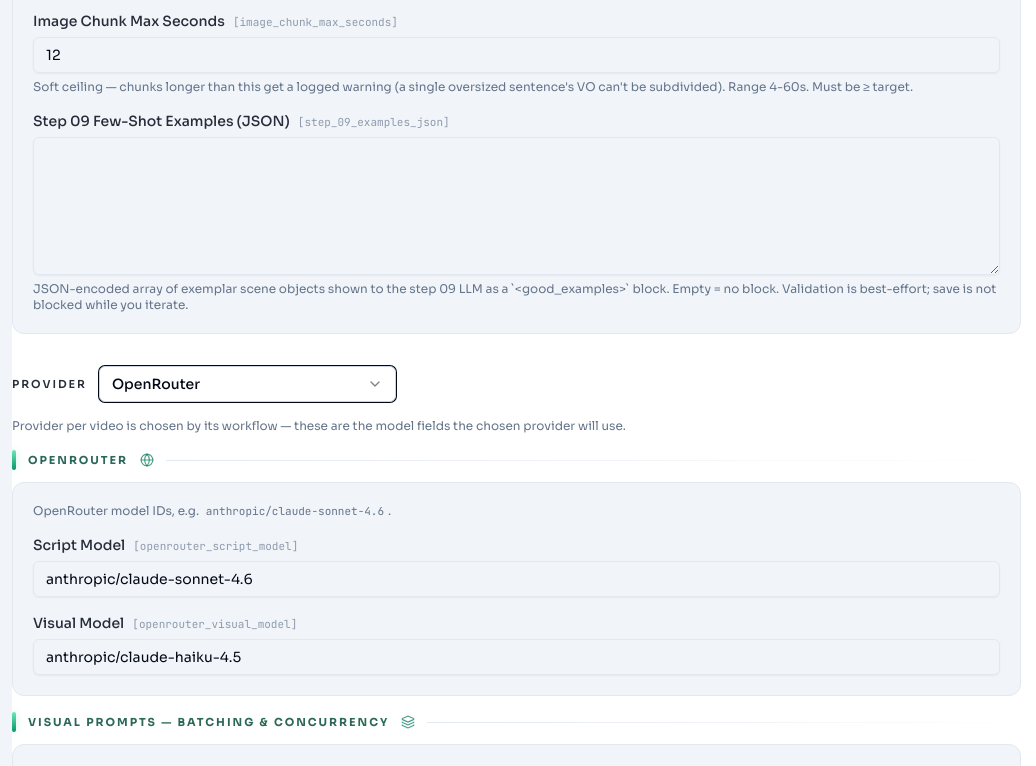
Scenario: SettingsForm field distribution › Script tab: switching the Provider view to Claude CLI reveals the two Claude CLI model TextFields
The width and height of the screenshot is (1036, 766).
(page scrolled)
Press Enter in the dropdown named "provider", box [99,366,396,402]
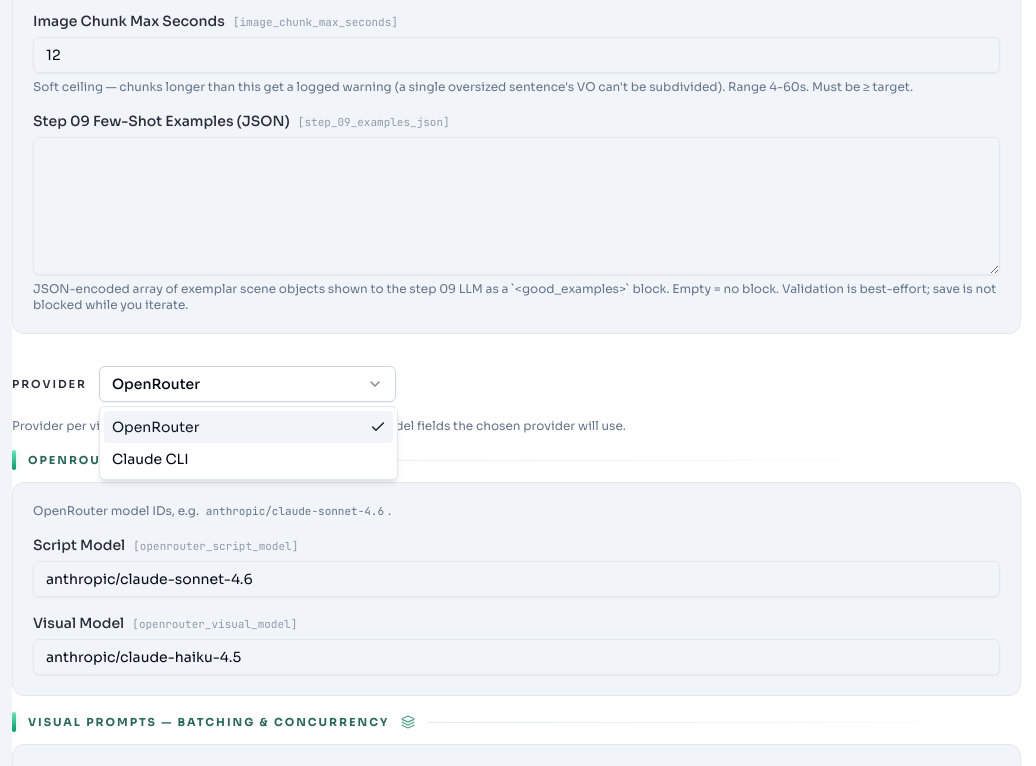
Click the option "Claude CLI".
click(150, 459)  # box [112,450,188,468]
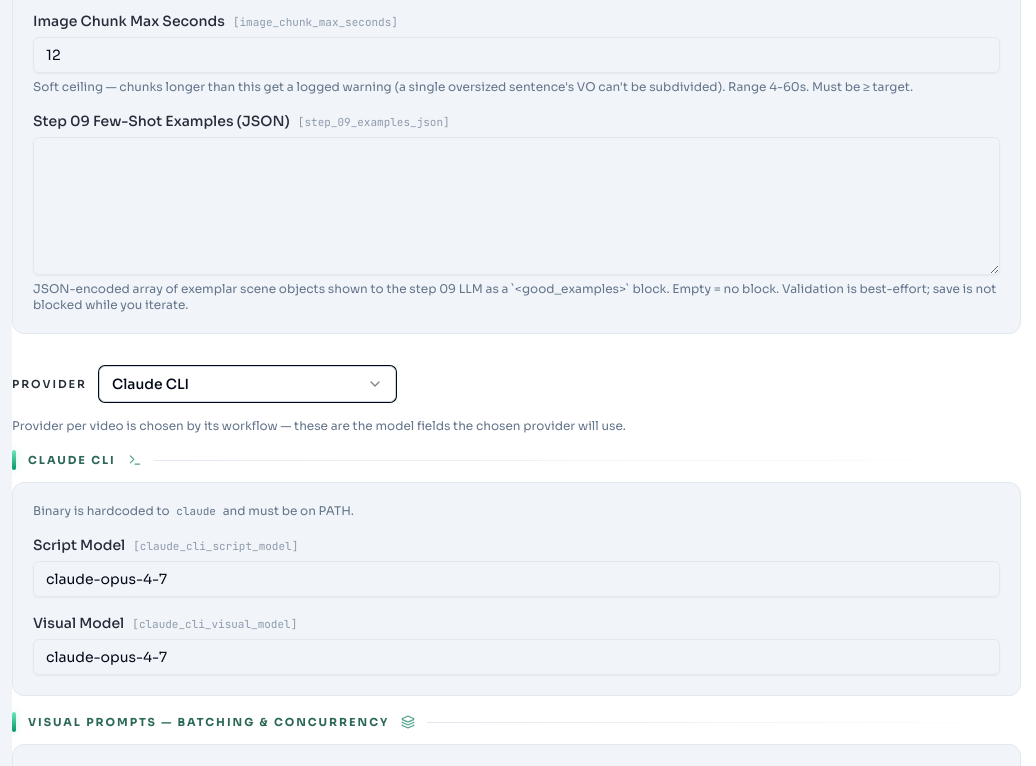
Expected: the field labelled "Script Model [claude_cli_script_model]" is shown, [33,561,1000,597]
Expected: the field labelled "Visual Model [claude_cli_visual_model]" is shown, [33,639,1000,675]
Expected: the text labelled "[openrouter_script_model]" is gone
